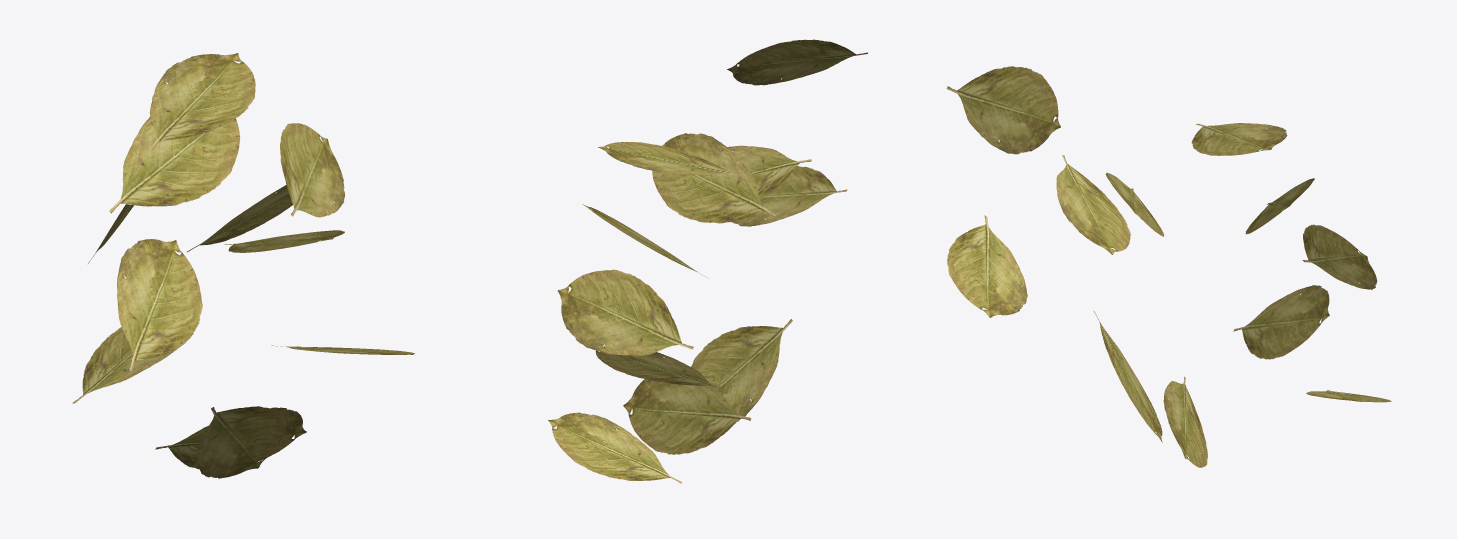
The model's file is VegetWallLeaves_C.fbx.
3 views of the same model, side by side, from view 1: azimuth 30°, elevation 25°; view 2: azimuth 150°, elevation 25°; view 3: azimuth 270°, elevation 25° (orthographic). The views are drawn at different scales.
Visible parts, largest first — view 1: VegetWallLeaves_C; view 2: VegetWallLeaves_C; view 3: VegetWallLeaves_C.
Boxes of the visible parts, x1,y1,x2,y2 form: VegetWallLeaves_C: (72,53,414,478); VegetWallLeaves_C: (548,39,867,483); VegetWallLeaves_C: (946,66,1391,467).
Size of the model in its own units: 71.67 by 65.05 by 34.22.
